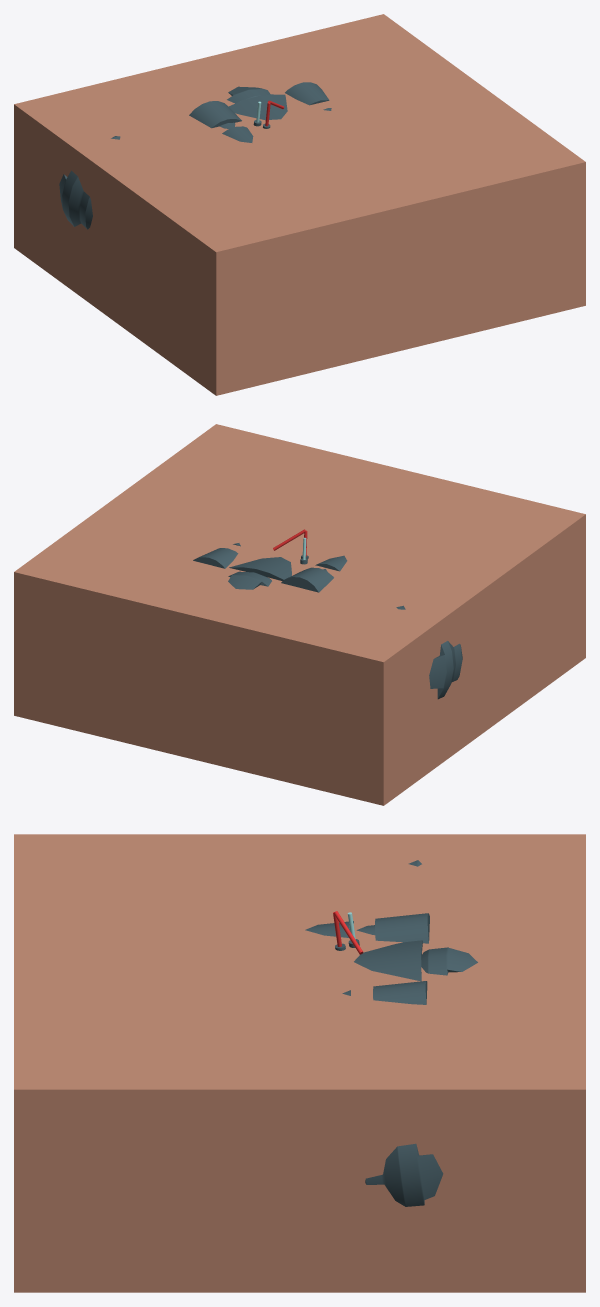
File: Ship.fbx
3 renders of one model, top to bottom at view 1: azimuth 30°, elevation 25°; view 2: azimuth 150°, elevation 25°; view 3: azimuth 270°, elevation 25°, orthographic. The views are drawn at different scales.
Parts seen in each view (by area): view 1: Mesh, Ship; view 2: Mesh, Ship; view 3: Mesh, Ship.
Part boxes in pixels (x1,y1,x2,y2): Mesh: (14,14,585,395); Ship: (59,82,331,229); Mesh: (14,424,585,805); Ship: (193,529,462,699); Mesh: (14,834,585,1292); Ship: (305,860,477,1206).
Bounding box in the file's own units: 1155 × 493 × 1057.
